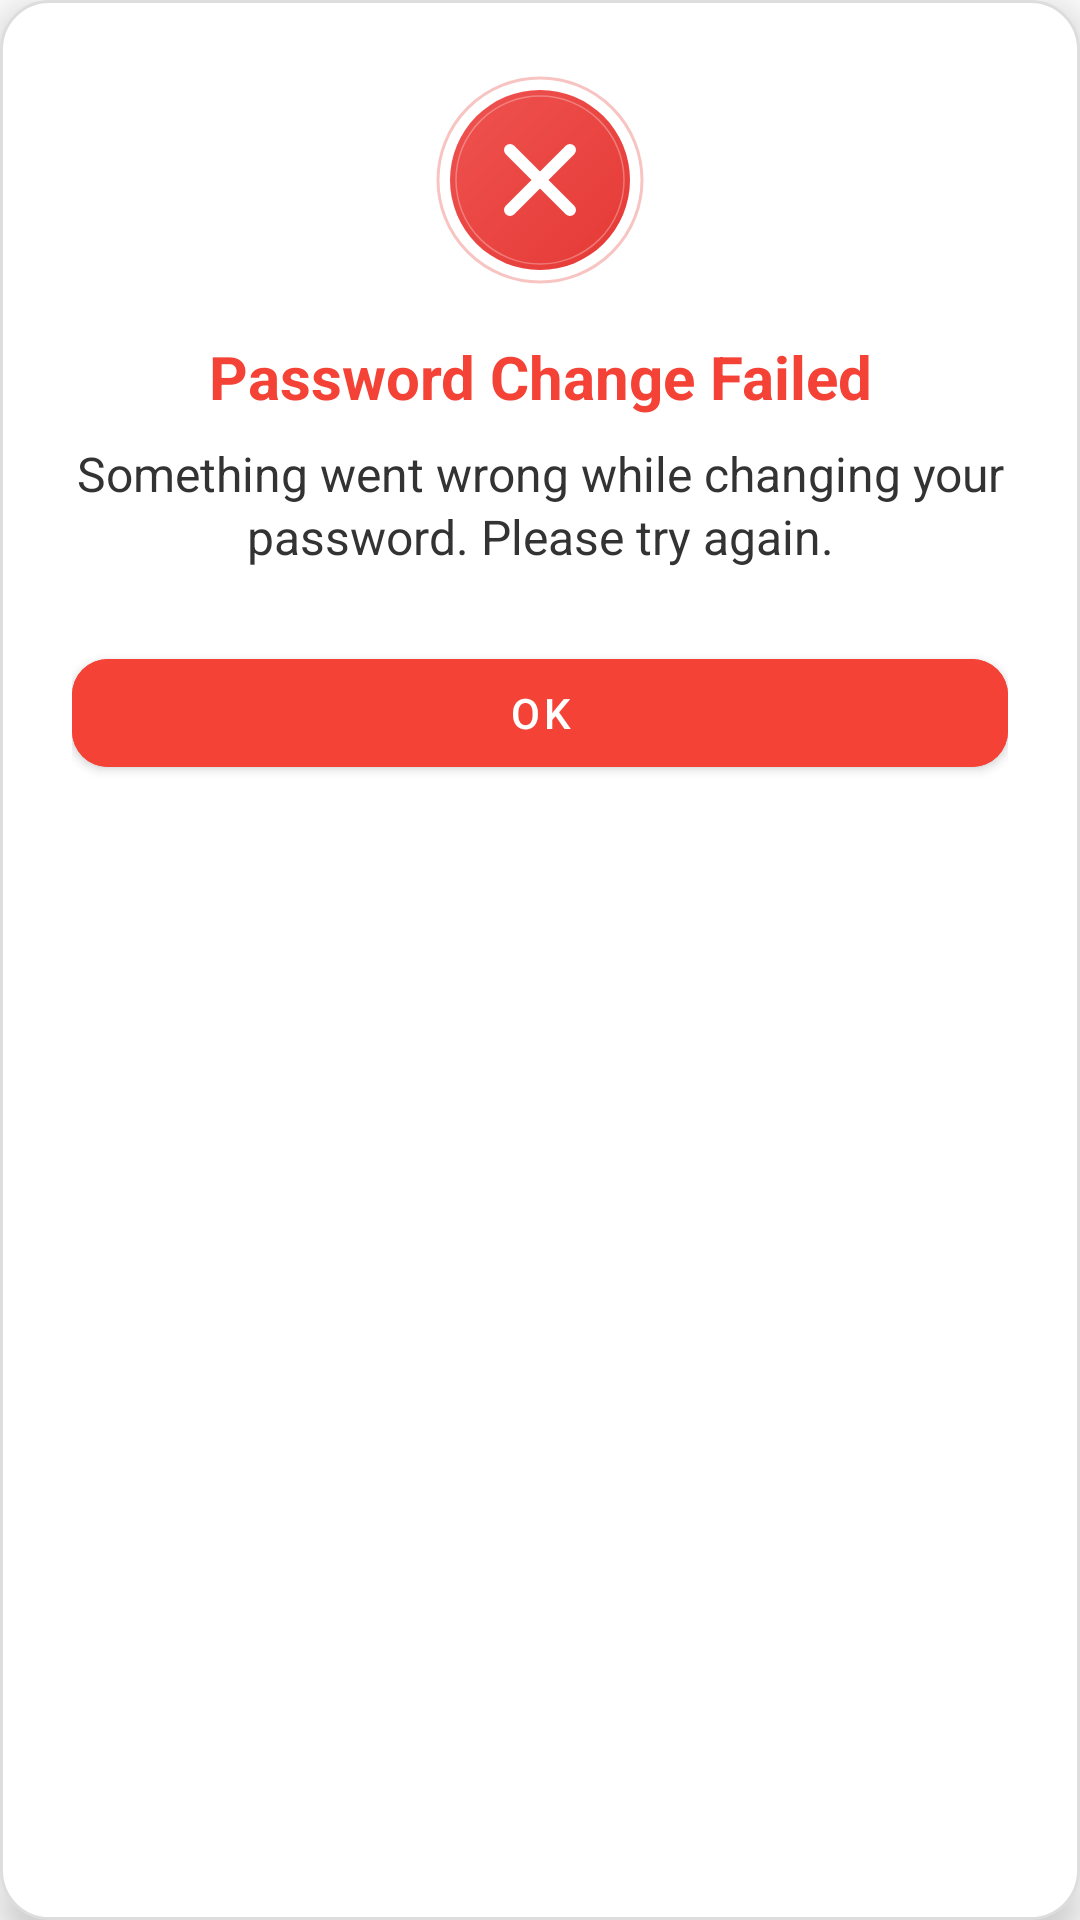

Where to tap for icons on this 1080×1920 app screen, as [x,y]:
Error Icon: [540,180]
